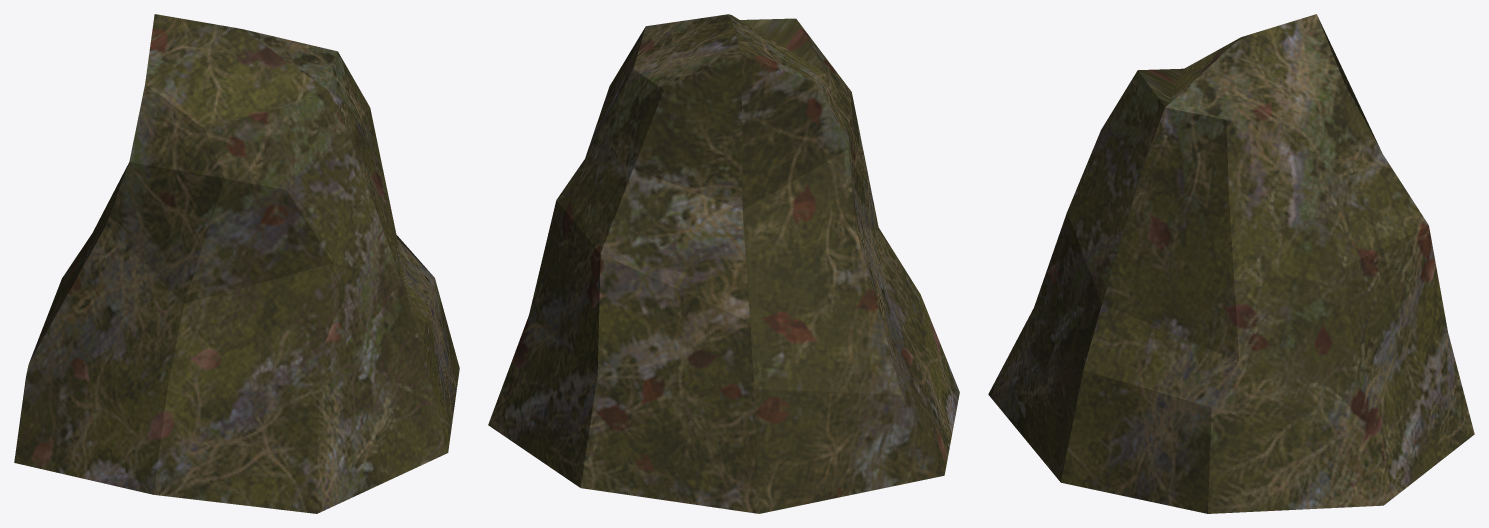
Rendered from steeen.fbx.
3 renders of one model, left to right at view 1: azimuth 30°, elevation 25°; view 2: azimuth 150°, elevation 25°; view 3: azimuth 270°, elevation 25°, orthographic. The views are drawn at different scales.
Parts seen in each view (by area): view 1: pCube11; view 2: pCube11; view 3: pCube11.
Part boxes in pixels (x1,y1,x2,y2): pCube11: [14, 14, 459, 513]; pCube11: [488, 14, 959, 513]; pCube11: [988, 14, 1474, 513].
Bounding box in the file's own units: 5.93 × 5.24 × 5.93.
